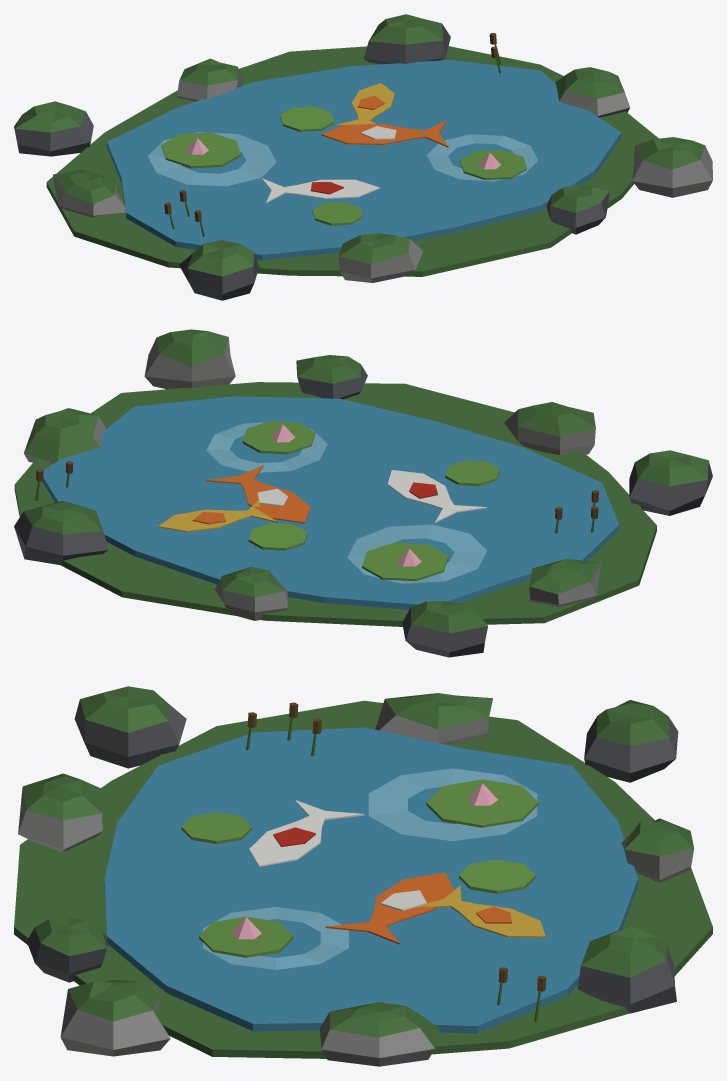
The model's file is Decor_SamuraiShrine_KoiPond.fbx.
3 views of the same model, one above another, from view 1: azimuth 30°, elevation 25°; view 2: azimuth 150°, elevation 25°; view 3: azimuth 270°, elevation 25° (orthographic). The views are drawn at different scales.
Visible parts, largest first — view 1: KoiPond_Body; view 2: KoiPond_Body; view 3: KoiPond_Body.
Part boxes in pixels (box(x1,y1,x2,y2)): KoiPond_Body: box(14, 14, 712, 300); KoiPond_Body: box(14, 329, 712, 657); KoiPond_Body: box(14, 686, 712, 1066).
Bounding box in the file's own units: 29.95 × 2 × 24.42.
